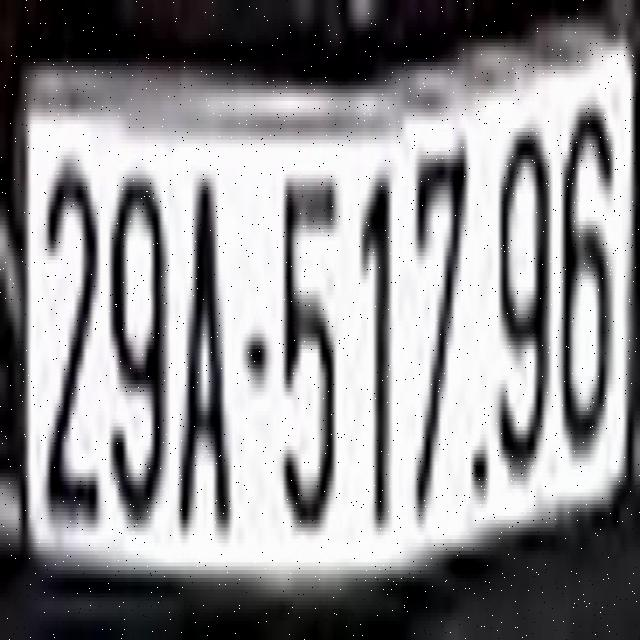1: (357, 156, 393, 532)
2: (42, 149, 101, 522)
5: (278, 155, 340, 535)
6: (561, 97, 614, 458)
7: (411, 132, 469, 524)
9: (109, 157, 168, 530), (496, 110, 550, 483)
A: (177, 159, 234, 535)
